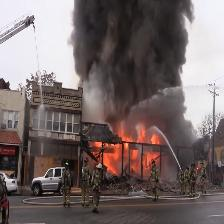fire: (89, 119, 163, 181)
smoke: (83, 2, 180, 86)
